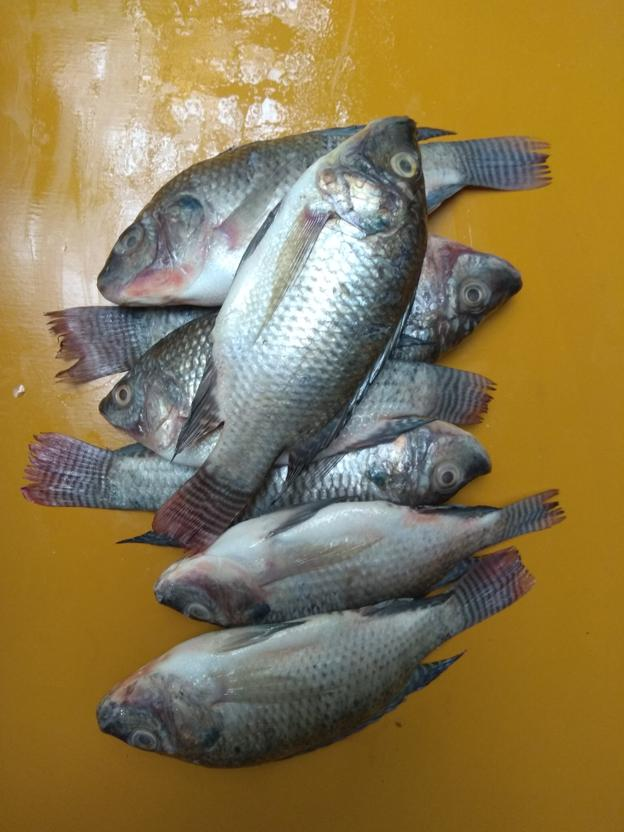Fish head: (97, 179, 213, 308), (310, 113, 430, 235), (412, 236, 526, 359), (93, 658, 218, 770), (98, 331, 187, 454), (365, 420, 491, 505), (155, 551, 267, 630)
Fish tail: (151, 454, 258, 553), (18, 430, 126, 512), (44, 301, 146, 386), (449, 548, 536, 635), (449, 134, 558, 194), (422, 360, 498, 426), (487, 487, 569, 548)
